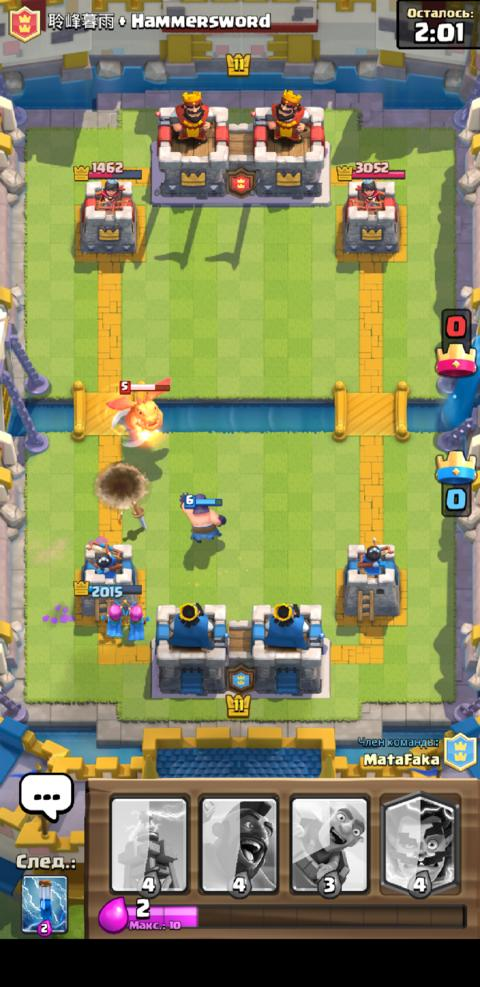ally_archer: (124, 600, 150, 640), (98, 598, 123, 638)
ally_executioner: (178, 490, 226, 543)
enemy_baby_dragon: (103, 374, 171, 449)
